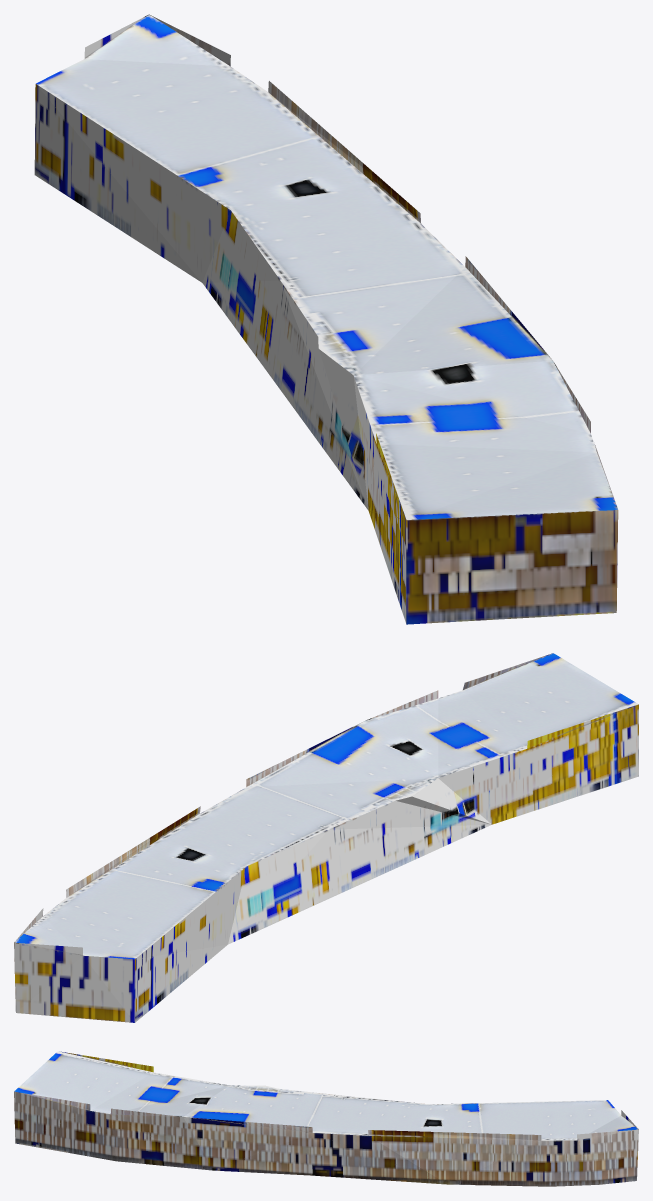
Rendered from 104NEWW.glb.
3 views of the same model, one above another, from view 1: azimuth 30°, elevation 25°; view 2: azimuth 150°, elevation 25°; view 3: azimuth 270°, elevation 25° (orthographic). The views are drawn at different scales.
Visible parts, largest first — view 1: 104COPY; view 2: 104COPY; view 3: 104COPY.
Boxes of the visible parts, left/top/right/bottom form: 104COPY: left=34, top=14, right=618, bottom=624; 104COPY: left=14, top=653, right=638, bottom=1022; 104COPY: left=14, top=1051, right=638, bottom=1186.
Size of the model in its own units: 81.87 by 23.92 by 256.
1 material, 1 textured.
